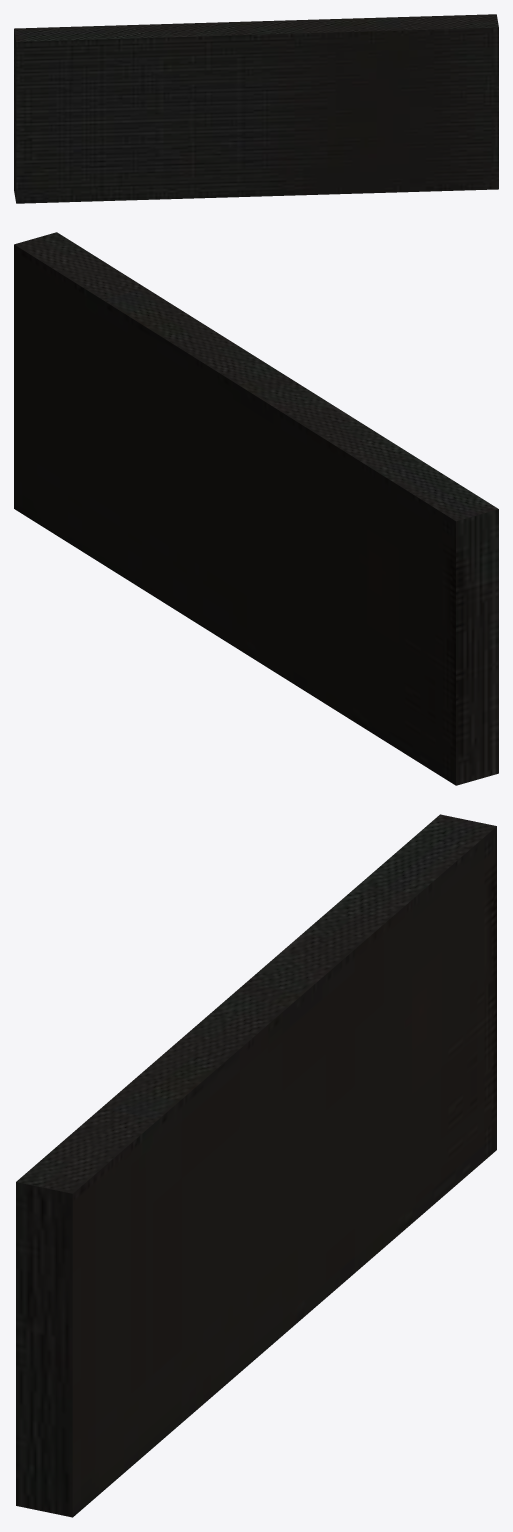
File: backrest__backrest_pad.glb
The picture shows the model from 3 angles, top to bottom: view 1: azimuth 30°, elevation 25°; view 2: azimuth 150°, elevation 25°; view 3: azimuth 270°, elevation 25°; orthographic projection. The views are drawn at different scales.
Parts seen in each view (by area): view 1: world; view 2: world; view 3: world.
Boxes of the visible parts, box(x1,y1,x2,y2) form: world: box(14, 14, 498, 203); world: box(14, 232, 498, 785); world: box(16, 814, 496, 1517).
Bounding box in the file's own units: 0.7791 × 0.31 × 0.4177.
1 material, 1 textured.
